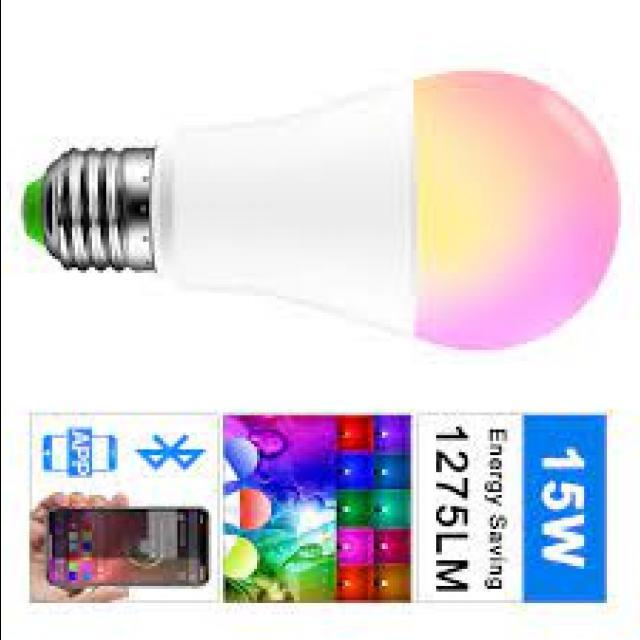light_bulb: (15, 48, 628, 368)
